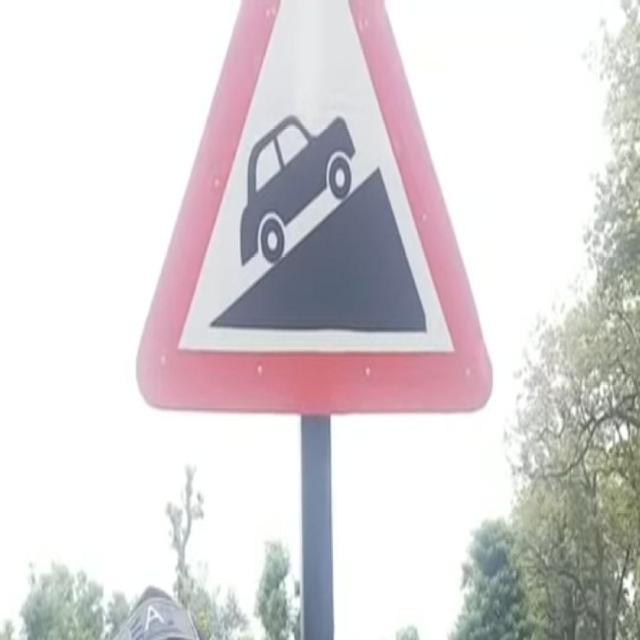steep ascent: (138, 21, 497, 411)
